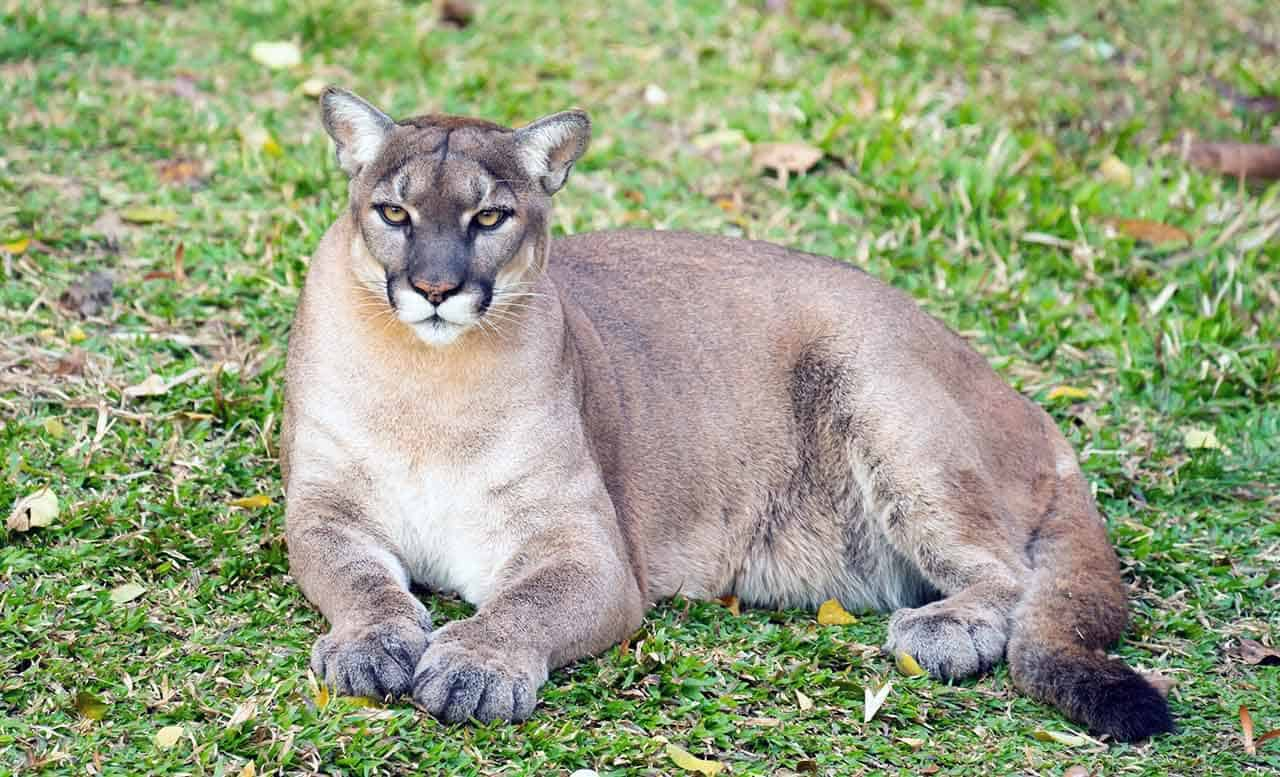OncaParda: (267, 75, 1168, 761)
